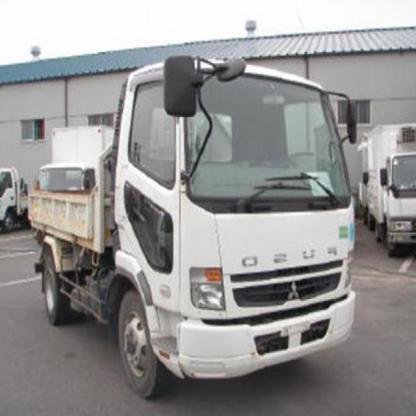truck: (31, 53, 360, 398)
